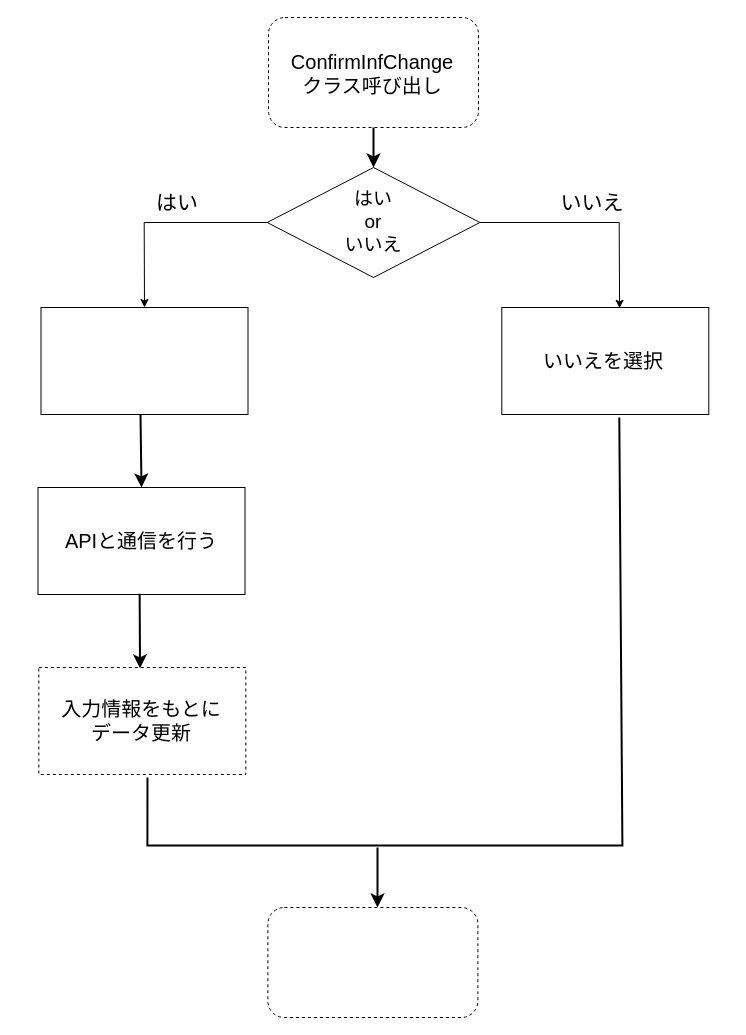
This 746x1035 diagram has some shape labels left out. Each missing label, with the centre of its shape:
"OverScreenControl コンポーネント 呼び出し" goes at point (372, 962).
"はいを選択" goes at point (144, 360).
